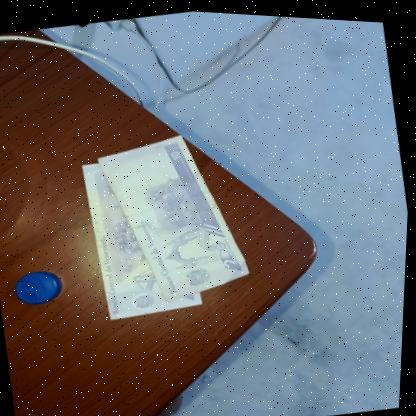vef_back: (90, 119, 261, 312), (78, 146, 211, 324)
